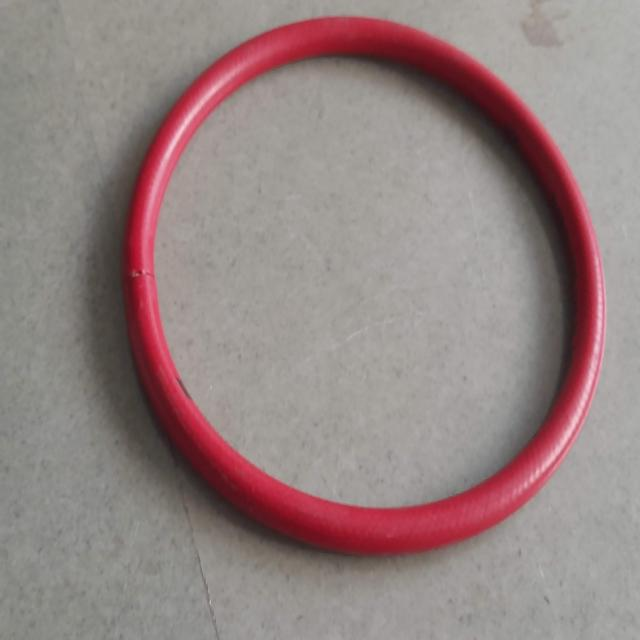daire: (123, 15, 605, 551)
